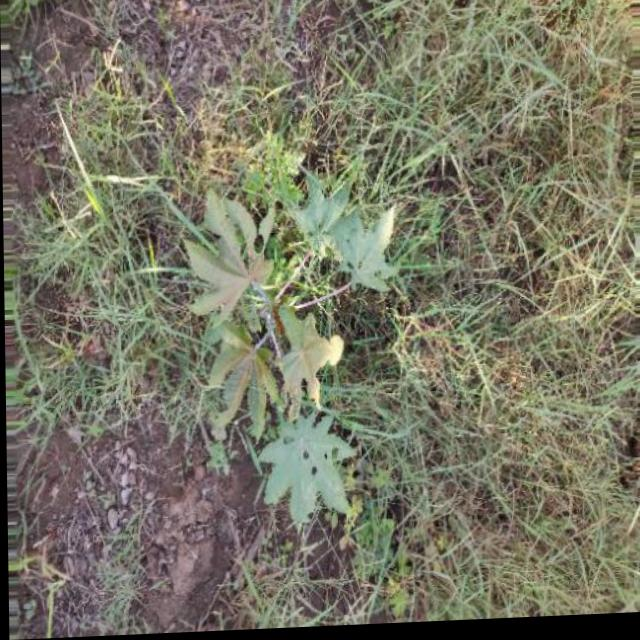weed: (136, 172, 403, 564), (451, 27, 625, 584)
